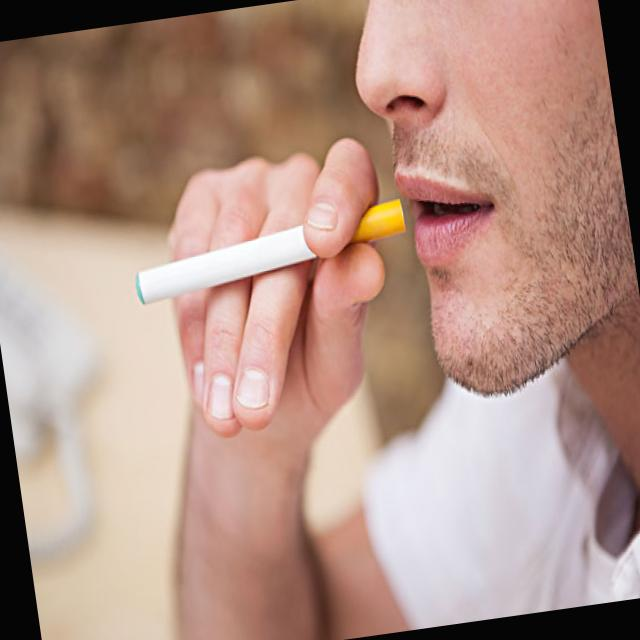smoke: (134, 215, 315, 311)
